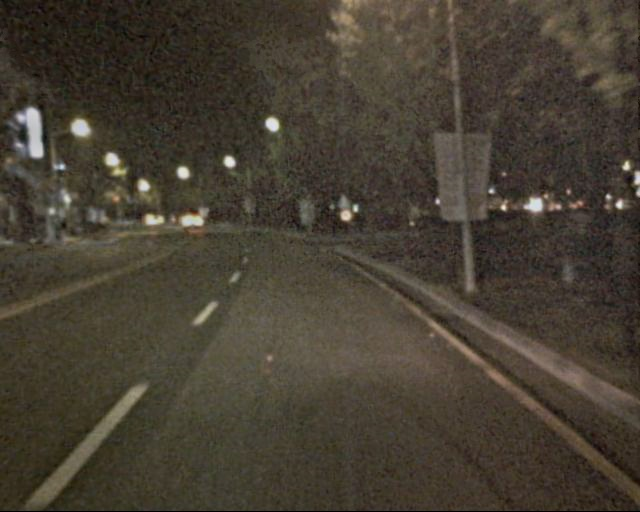person: (546, 209, 601, 317)
